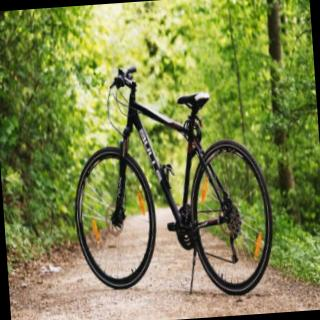bicycle: (64, 56, 278, 307)
